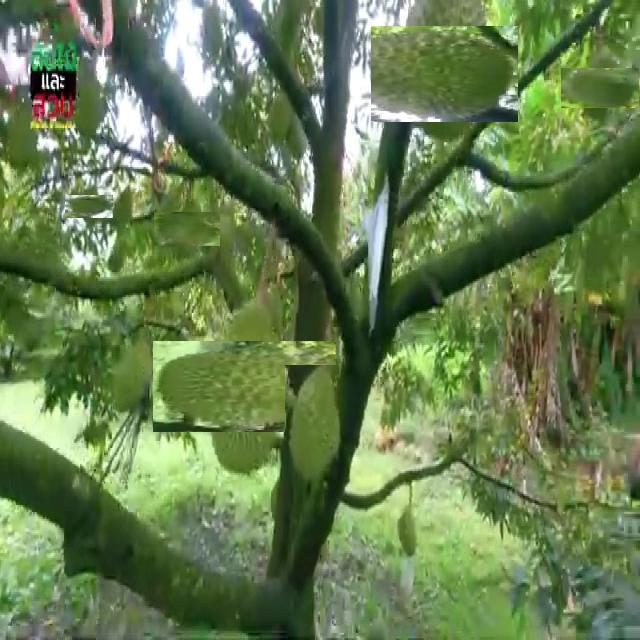durian: (176, 318, 313, 456), (384, 12, 506, 134), (285, 365, 343, 490), (571, 57, 632, 118), (161, 204, 212, 255), (396, 500, 419, 560), (71, 188, 107, 224)
